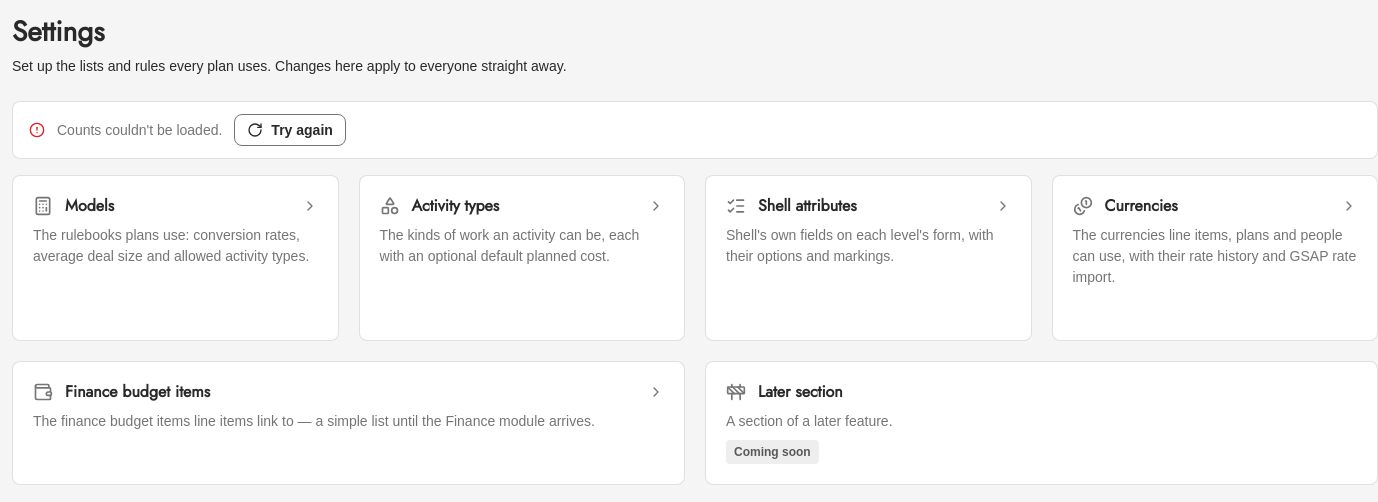
Scenario: SettingsPage (FR-001) › keeps the cards usable when the counts cannot be loaded, and tries again
Expected: the message shows "Counts couldn't be loaded.", [57, 122, 222, 138]
Expected: the link "Models" is shown, [65, 194, 114, 217]
What coordinates should you click on to do the following:
click the button "Try again"
I would click on:
 (290, 130)
Its box is [234, 114, 346, 146].
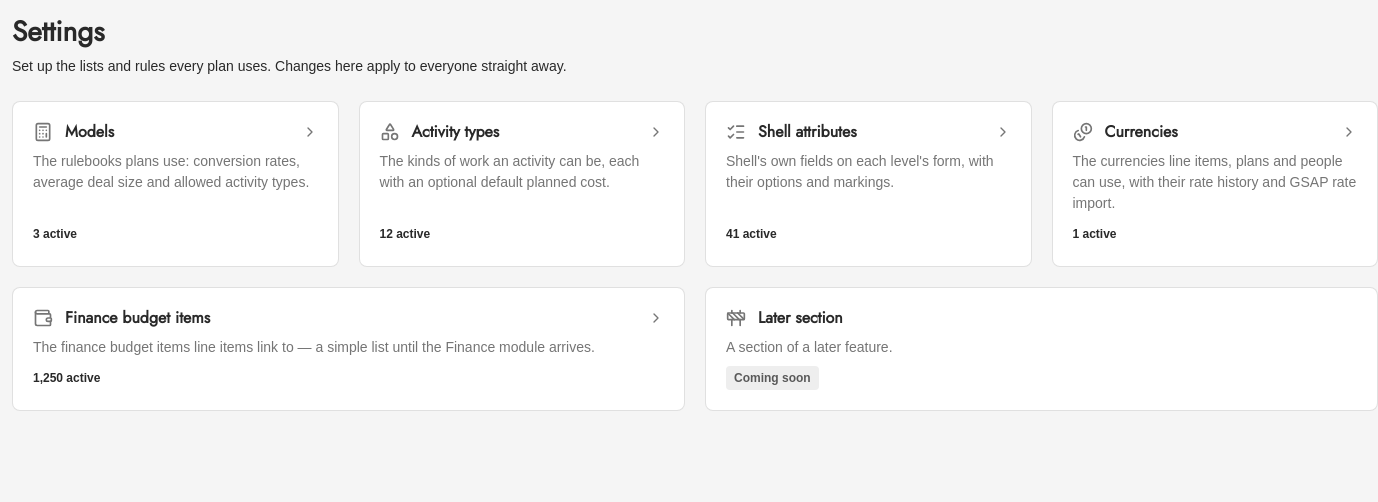
Expected: the text "3 active" is shown, [33, 225, 77, 243]
Expected: the message "Counts couldn't be loaded. Try again" is gone
